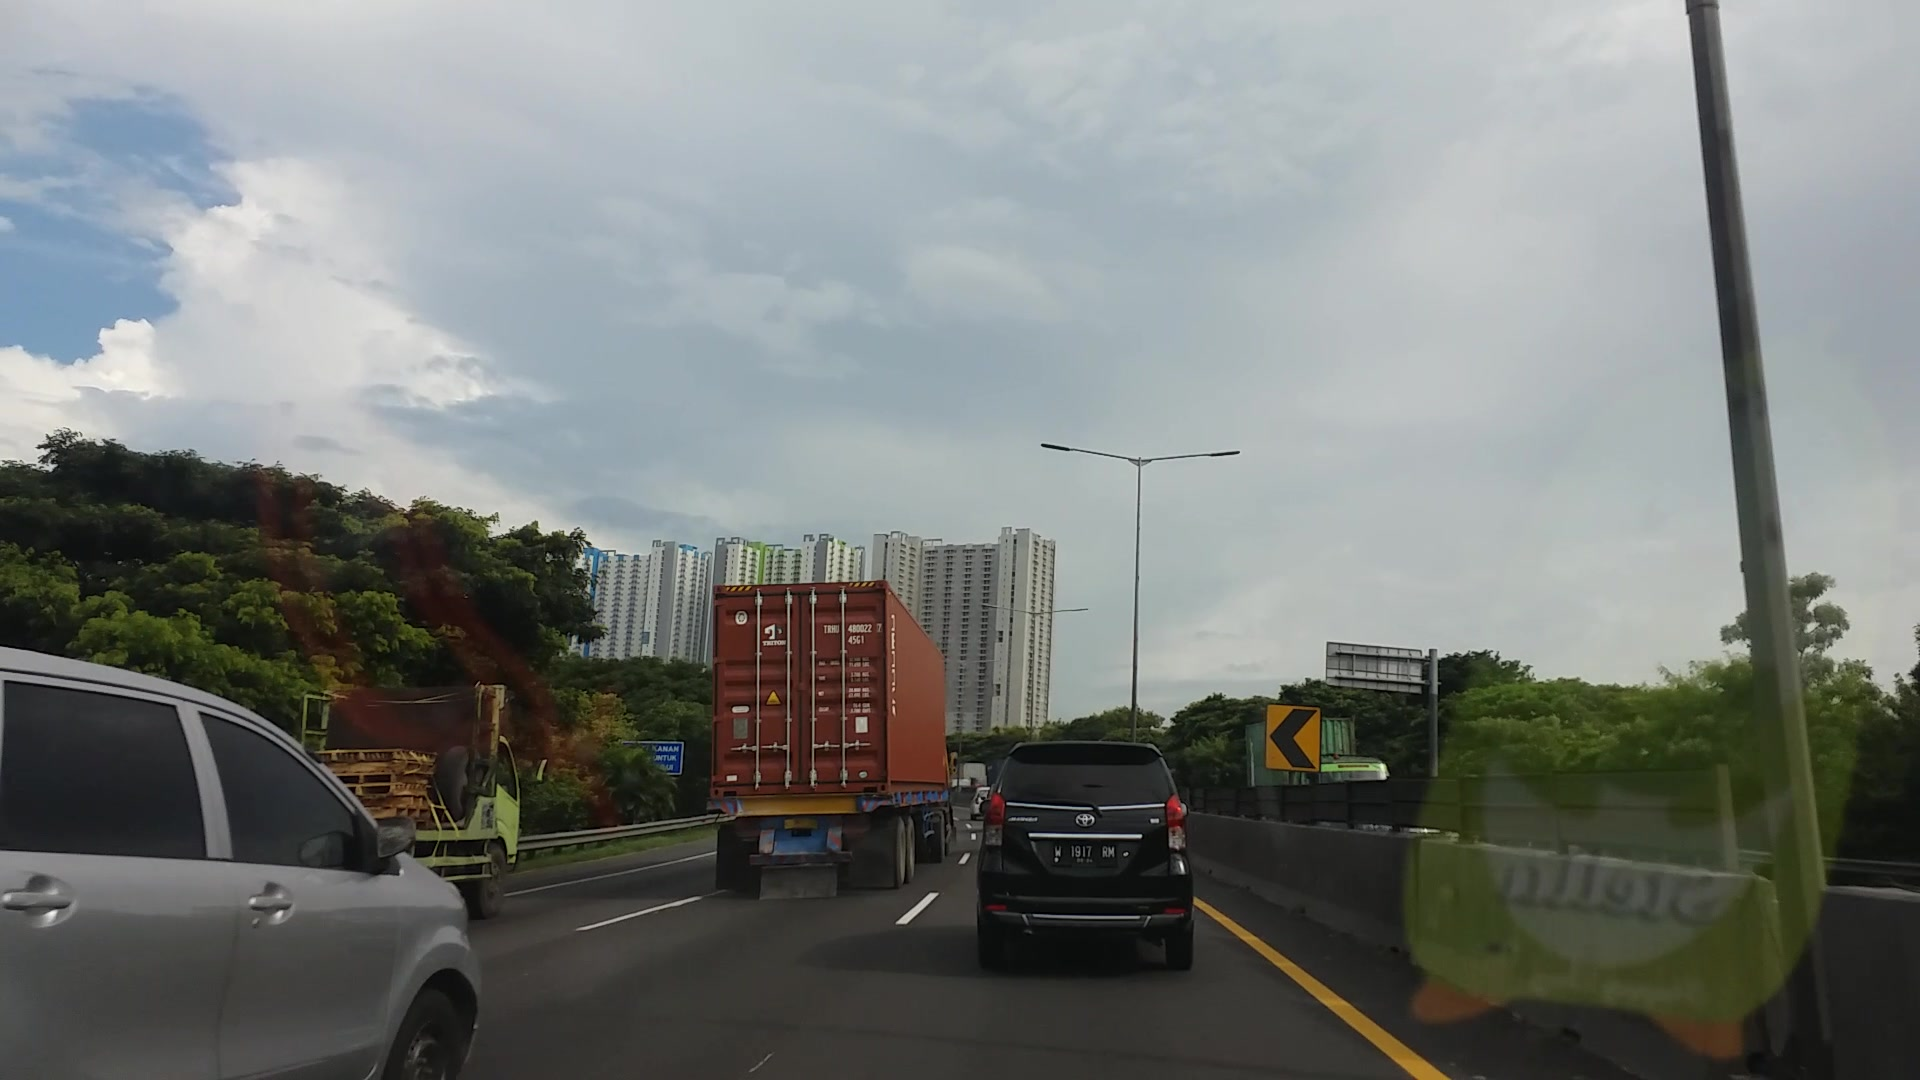plate_positive: (1052, 840, 1118, 866)
